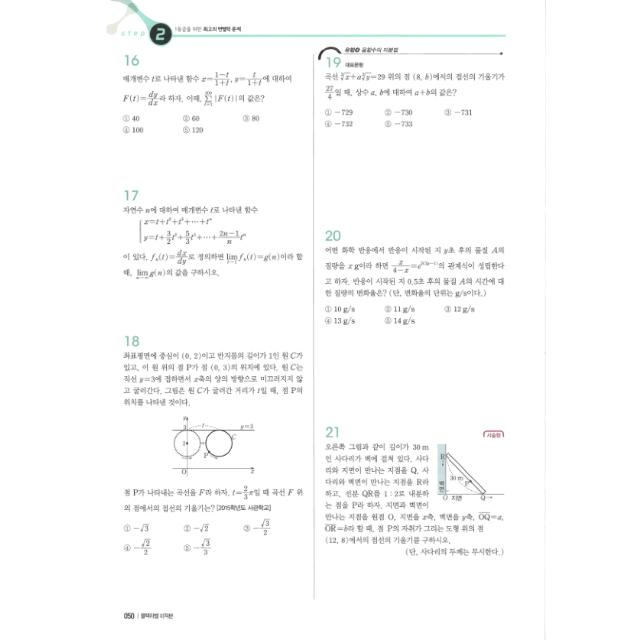multiple: (115, 328, 308, 564), (317, 224, 515, 332), (316, 42, 510, 136), (115, 46, 308, 138)
short: (317, 417, 508, 561), (117, 178, 307, 286)
